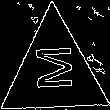M_W: (31, 48, 77, 96)
